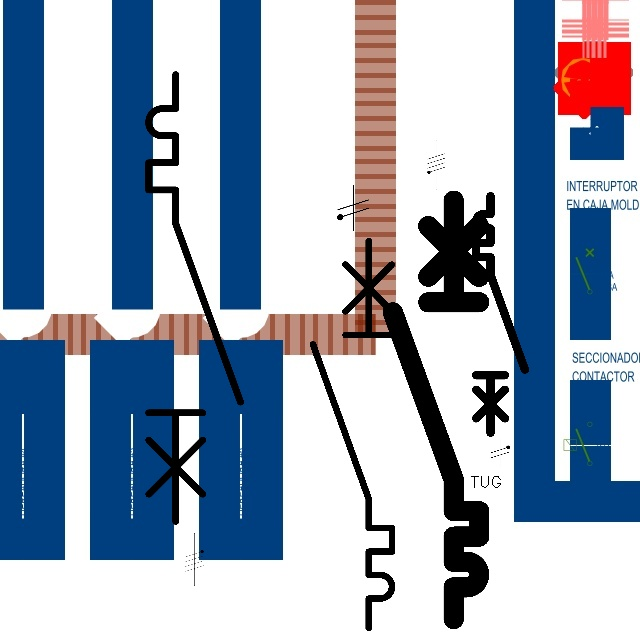interruptor_termomagnetico: (137, 63, 252, 533), (382, 189, 490, 629), (303, 231, 402, 638), (470, 190, 531, 439)
